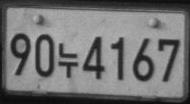0: (33, 32, 55, 78)
1: (107, 36, 130, 81)
4: (81, 35, 105, 80)
6: (132, 37, 155, 82)
7: (156, 38, 180, 82)
9: (9, 32, 31, 75)
누: (57, 42, 79, 78)
